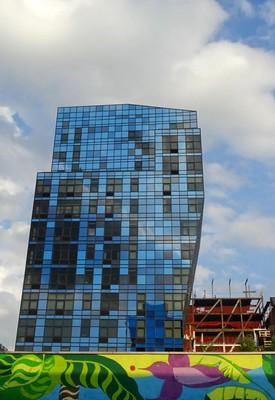building: (10, 101, 207, 350)
